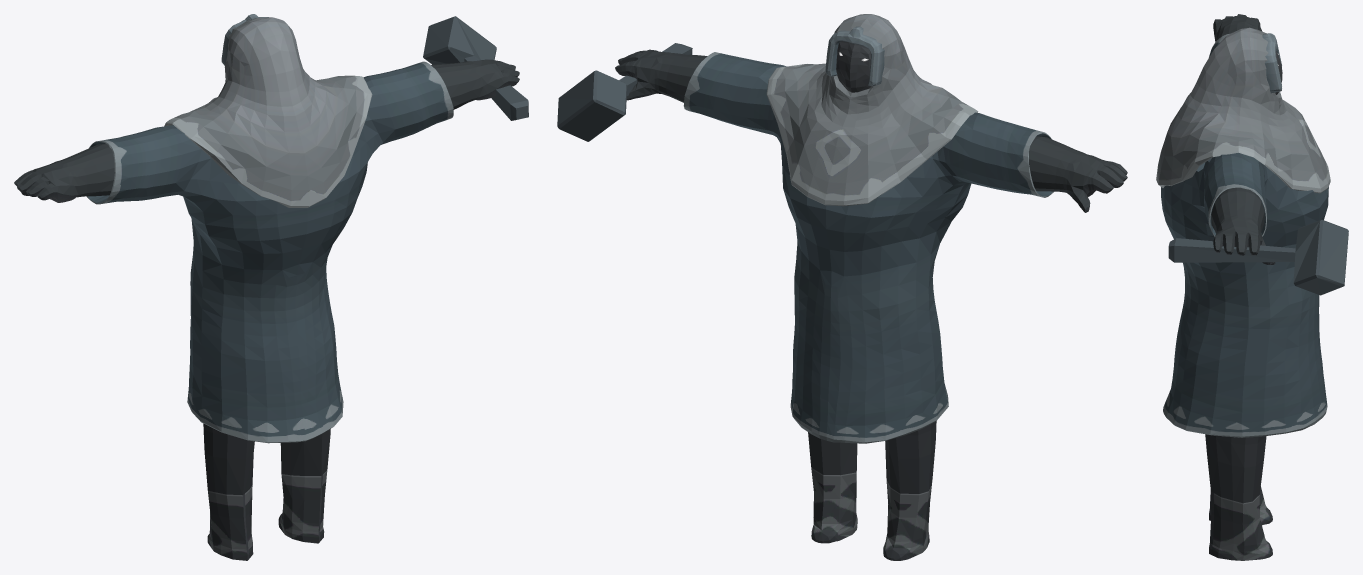
The model's file is CharSkyNPC_Body_StrongLaborHammer.glb.
3 renders of one model, left to right at view 1: azimuth 30°, elevation 25°; view 2: azimuth 150°, elevation 25°; view 3: azimuth 270°, elevation 25°, orthographic. The views are drawn at different scales.
Parts seen in each view (by area): view 1: CharSkyNPC_Body_StrongLaborHammer; view 2: CharSkyNPC_Body_StrongLaborHammer; view 3: CharSkyNPC_Body_StrongLaborHammer.
Boxes of the visible parts, left/top/right/bottom form: CharSkyNPC_Body_StrongLaborHammer: left=14, top=14, right=528, bottom=560; CharSkyNPC_Body_StrongLaborHammer: left=557, top=14, right=1127, bottom=560; CharSkyNPC_Body_StrongLaborHammer: left=1156, top=14, right=1348, bottom=560.
Bounding box in the file's own units: 14.61 × 13.99 × 4.83.
Materials: 1 (1 with a texture image).
